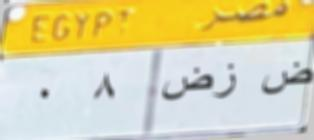0: (35, 83, 56, 105)
8: (94, 70, 118, 102)
daad: (256, 56, 312, 98), (163, 62, 211, 109)
zay: (215, 61, 240, 103)
